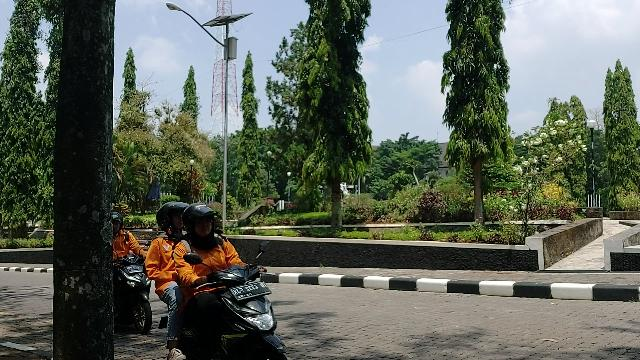helm: (186, 204, 222, 237), (158, 203, 188, 235), (114, 213, 124, 234)
motor: (191, 266, 287, 360), (115, 255, 152, 333)
